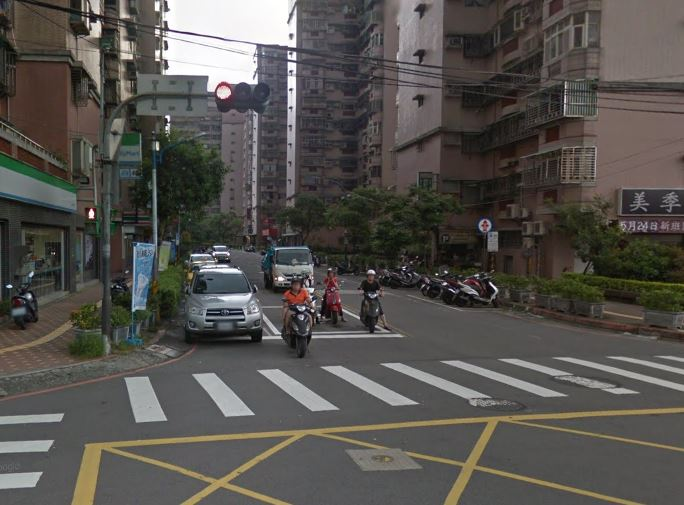Traffic_light_red: (213, 80, 270, 103)
